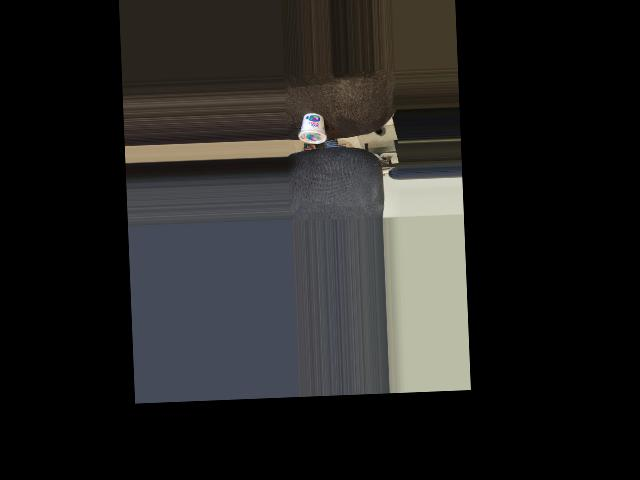cotage: (297, 111, 328, 145)
